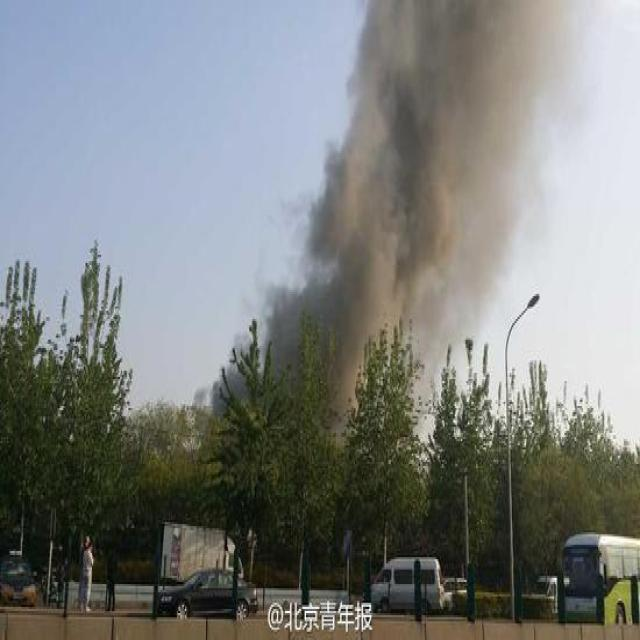smoke: (192, 2, 585, 428)
